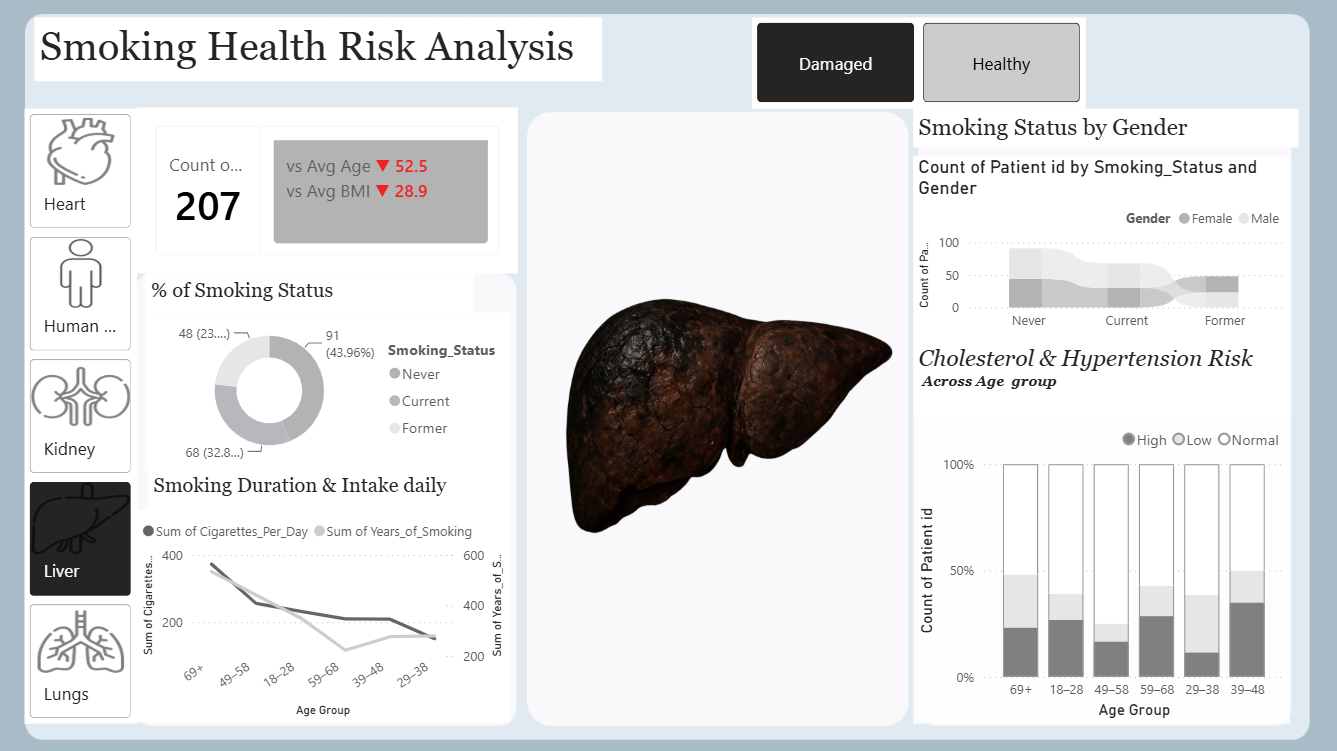

What the dashboard file says about the page in this screenshot:
{"tool":"powerbi","page":{"name":"Page 1","canvas":[1280,720],"ordinal":0},"visuals":[{"type":"textbox","box":[48.8,20.9,527.9,59.3],"z":0},{"type":"ribbonChart","fields":{"Category":["health_dataset.Smoking_Status"],"Y":["CountNonNull(health_dataset.Patient_ID)"],"Series":["health_dataset.Gender"]},"box":[866.3,150,350,170.9],"z":1000},{"type":"donutChart","fields":{"Y":["CountNonNull(health_dataset.Patient_ID)"],"Category":["health_dataset.Smoking_Status"]},"box":[152.3,295.3,338.4,145.3],"z":2000},{"type":"lineChart","fields":{"Y2":["Sum(health_dataset.Years_of_Smoking)"],"Y":["Sum(health_dataset.Cigarettes_Per_Day)"],"Category":["health_dataset.Age Group"]},"box":[144.2,479.1,346.5,197.7],"z":3000},{"type":"textbox","box":[152.5,258.8,305,36.2],"z":4000},{"type":"textbox","box":[866.3,105.8,358.1,36],"z":6000},{"type":"textbox","box":[866.3,320.9,350,72.1],"z":7000},{"type":"hundredPercentStackedColumnChart","fields":{"Category":["health_dataset.Age Group"],"Y":["CountNonNull(health_dataset.Patient_ID)"],"Series":["health_dataset.BP_Risk"]},"box":[866.2,392.5,350,285],"z":8000},{"type":"textbox","box":[154.7,440.7,336,38.4],"z":9000},{"type":"advancedSlicerVisual","fields":{"Values":["Organs.Organ"]},"box":[39.5,105.8,104.7,572.1],"z":10000},{"type":"image","box":[514,101.2,352.3,575.6],"z":11000},{"type":"cardVisual","fields":{"Data":["CountNonNull(health_dataset.Patient_ID)"]},"box":[144.4,104.4,354.4,154.4],"z":12000},{"type":"advancedSlicerVisual","fields":{"Values":["health_dataset.Organ_Condition"]},"box":[716.3,20.9,310.5,84.9],"z":13000}]}

Visuals, with their boxes in screenshot pixels (x1, y1, x2, y2), scaled from the page's 1280x720 canvas onto the 1337x751 screenshot:
textbox: crop(51, 22, 602, 84)
ribbonChart - health_dataset.Smoking_Status x CountNonNull(health_dataset.Patient_ID): crop(905, 156, 1270, 335)
donutChart - CountNonNull(health_dataset.Patient_ID) x health_dataset.Smoking_Status: crop(159, 308, 513, 460)
lineChart - Sum(health_dataset.Years_of_Smoking) x Sum(health_dataset.Cigarettes_Per_Day): crop(151, 500, 513, 706)
textbox: crop(159, 270, 478, 308)
textbox: crop(905, 110, 1279, 148)
textbox: crop(905, 335, 1270, 410)
hundredPercentStackedColumnChart - health_dataset.Age Group x CountNonNull(health_dataset.Patient_ID): crop(905, 409, 1270, 707)
textbox: crop(162, 460, 513, 500)
advancedSlicerVisual - Organs.Organ: crop(41, 110, 151, 707)
image: crop(537, 106, 905, 706)
cardVisual - CountNonNull(health_dataset.Patient_ID): crop(151, 109, 521, 270)
advancedSlicerVisual - health_dataset.Organ_Condition: crop(748, 22, 1073, 110)
